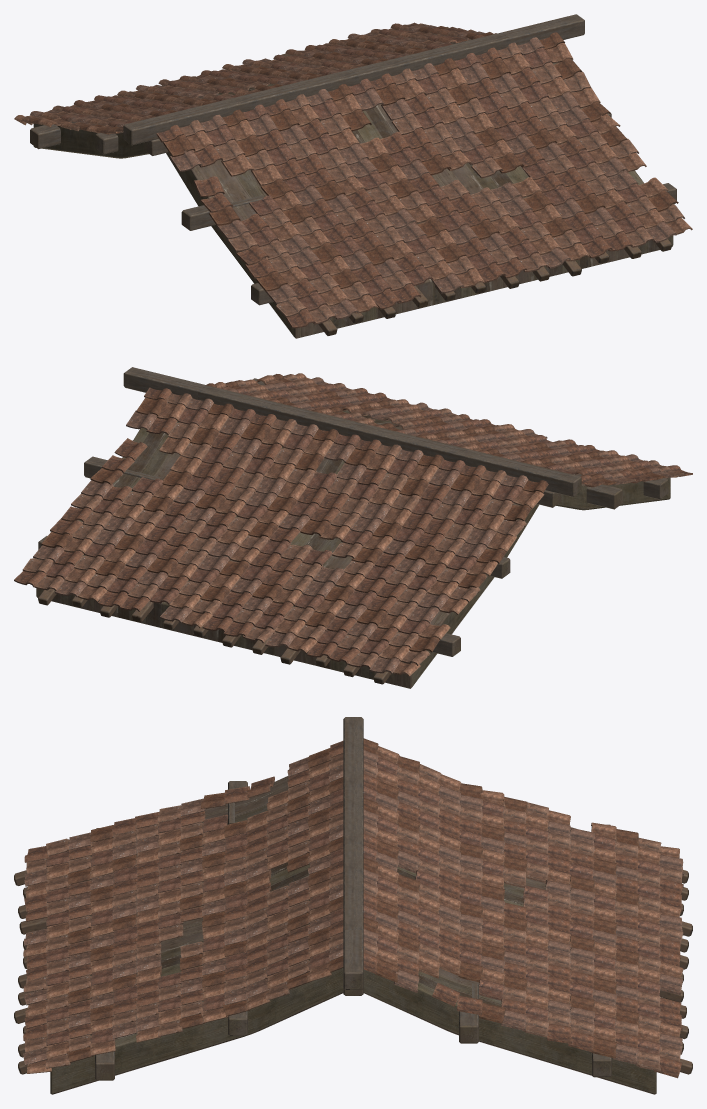
File: SM_Roof_big_2_01.fbx
3 renders of one model, top to bottom at view 1: azimuth 30°, elevation 25°; view 2: azimuth 150°, elevation 25°; view 3: azimuth 270°, elevation 25°, orthographic. The views are drawn at different scales.
Visible parts, largest first — view 1: SM_Roof_big_2_01_LOD0; view 2: SM_Roof_big_2_01_LOD0; view 3: SM_Roof_big_2_01_LOD0.
Part boxes in pixels (box(x1,y1,x2,y2)): SM_Roof_big_2_01_LOD0: box(14, 14, 692, 338); SM_Roof_big_2_01_LOD0: box(14, 367, 692, 688); SM_Roof_big_2_01_LOD0: box(14, 717, 692, 1094).
Bounding box in the file's own units: 900 × 1008 × 237.
4 materials, 4 textured.
